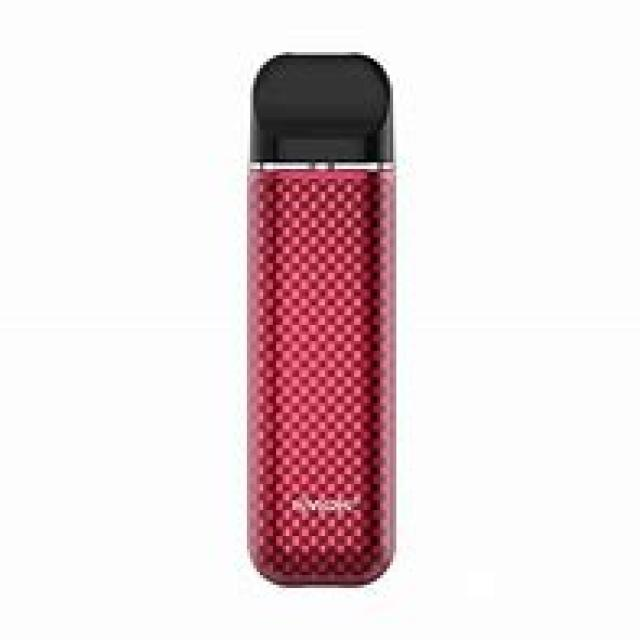Hazard: (244, 49, 396, 585)
